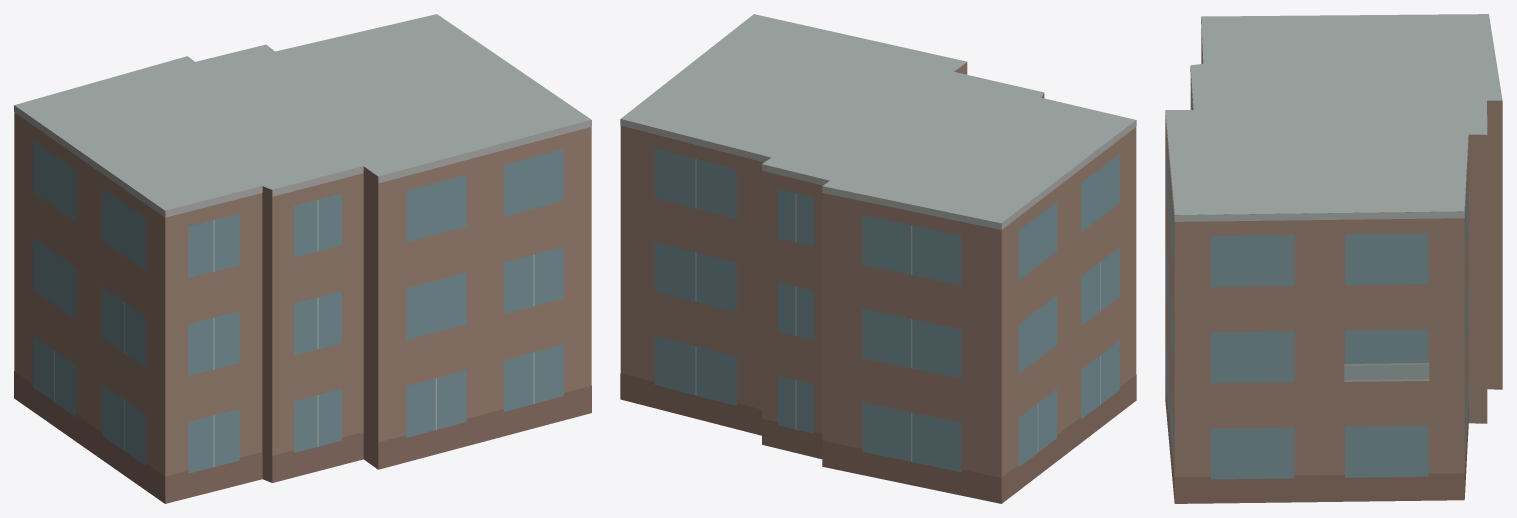
Rendered from survey-upis-32737748.glb.
The picture shows the model from 3 angles, left to right: view 1: azimuth 30°, elevation 25°; view 2: azimuth 150°, elevation 25°; view 3: azimuth 270°, elevation 25°; orthographic projection. The views are drawn at different scales.
Visible parts, largest first — view 1: survey-upis-32737748.tmp; view 2: survey-upis-32737748.tmp; view 3: survey-upis-32737748.tmp.
Boxes of the visible parts, box(x1,y1,x2,y2) form: survey-upis-32737748.tmp: box(14, 14, 591, 503); survey-upis-32737748.tmp: box(620, 14, 1136, 503); survey-upis-32737748.tmp: box(1165, 14, 1502, 503).
Size of the model in its own units: 15.39 by 10.3 by 10.91.
